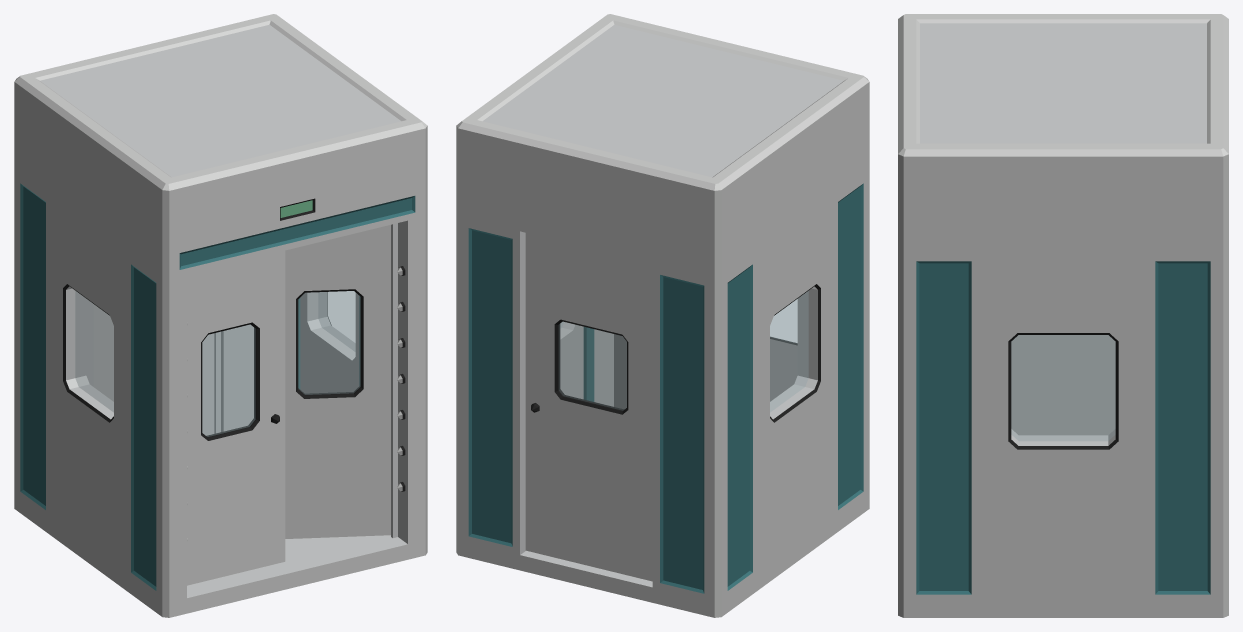
The model's file is air-shower-airlock-cabin-ed83ae.glb.
3 renders of one model, left to right at view 1: azimuth 30°, elevation 25°; view 2: azimuth 150°, elevation 25°; view 3: azimuth 270°, elevation 25°, orthographic. The views are drawn at different scales.
Visible parts, largest first — view 1: air-shower-cabin, door-r, door-l, clean-leaf; view 2: air-shower-cabin, clean-leaf, door-l, door-r; view 3: air-shower-cabin.
Part boxes in pixels (box(x1,y1,x2,y2)): air-shower-cabin: box(14, 14, 427, 617); door-r: box(285, 225, 390, 538); door-l: box(187, 250, 285, 585); clean-leaf: box(93, 304, 214, 435); air-shower-cabin: box(456, 14, 869, 617); clean-leaf: box(525, 233, 652, 581); door-l: box(770, 300, 797, 401); door-r: box(614, 334, 626, 409); air-shower-cabin: box(898, 14, 1228, 617).
Bounding box in the file's own units: 1.8 × 2.8 × 1.8.
